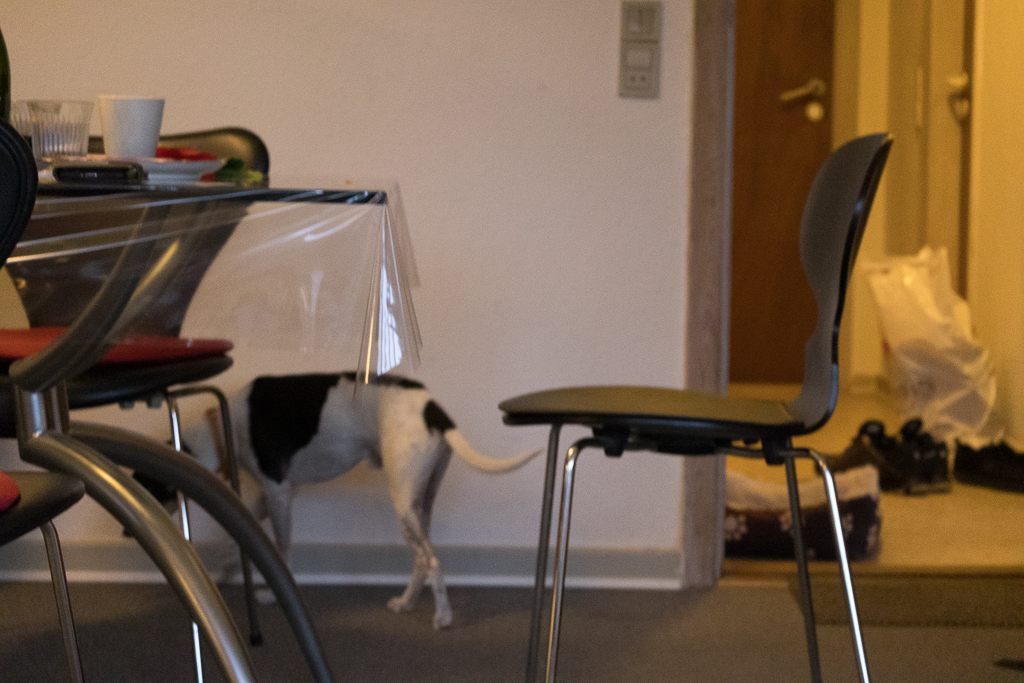Dog: (117, 363, 547, 636)
